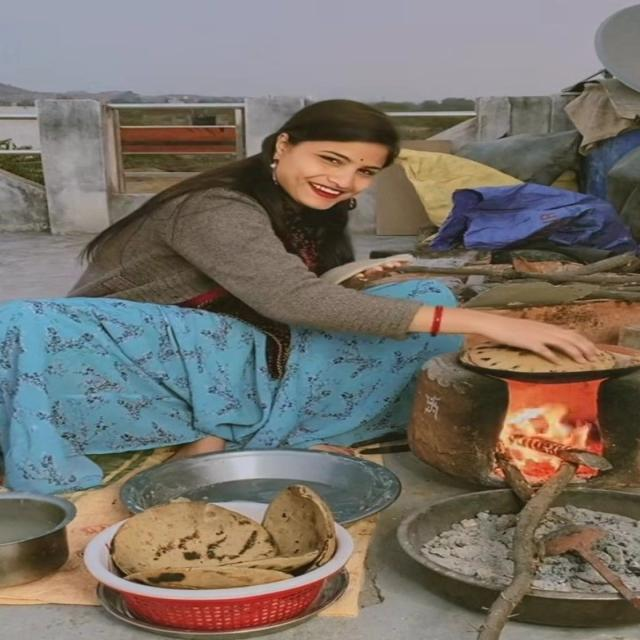fire: (498, 407, 590, 470)
